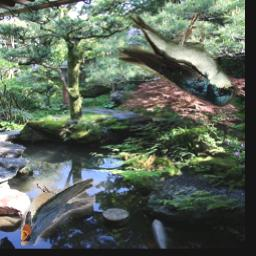Swallow: (114, 8, 239, 107), (21, 178, 95, 246)
